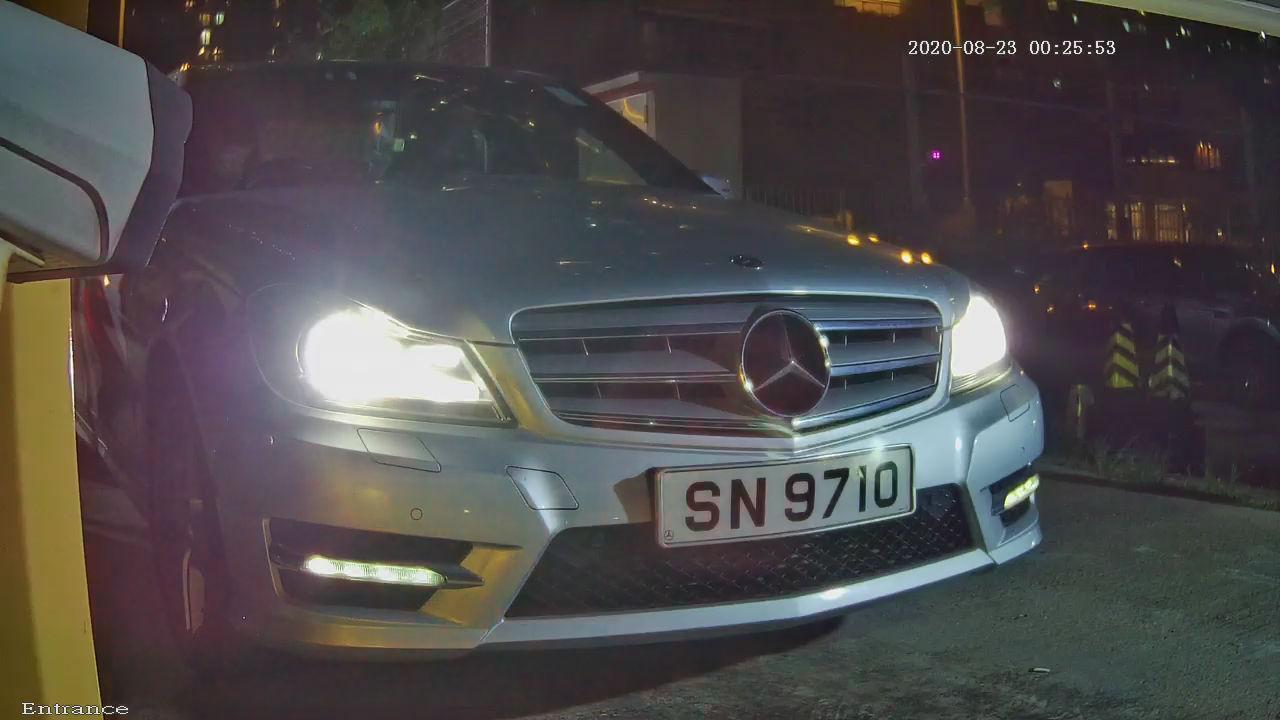Car: (2, 1, 1151, 720)
License Plate: (599, 412, 961, 605)
